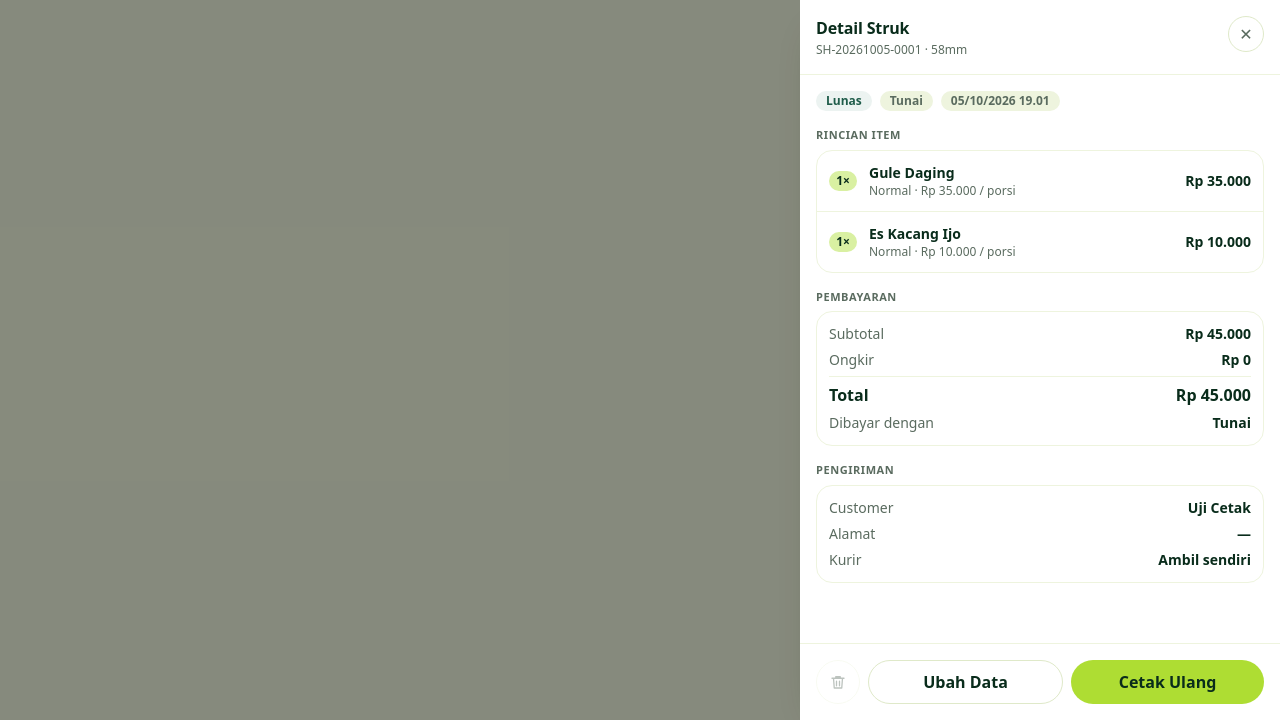
it: Ubah Data di drawer struk › memakai kolom Catatan Kirim, bukan Alamat Kirim
The image size is (1280, 720).
What coordinates should you click on to do the following:
click the button "Ubah Data"
I would click on:
 (966, 682)
Its box is [868, 660, 1063, 704].
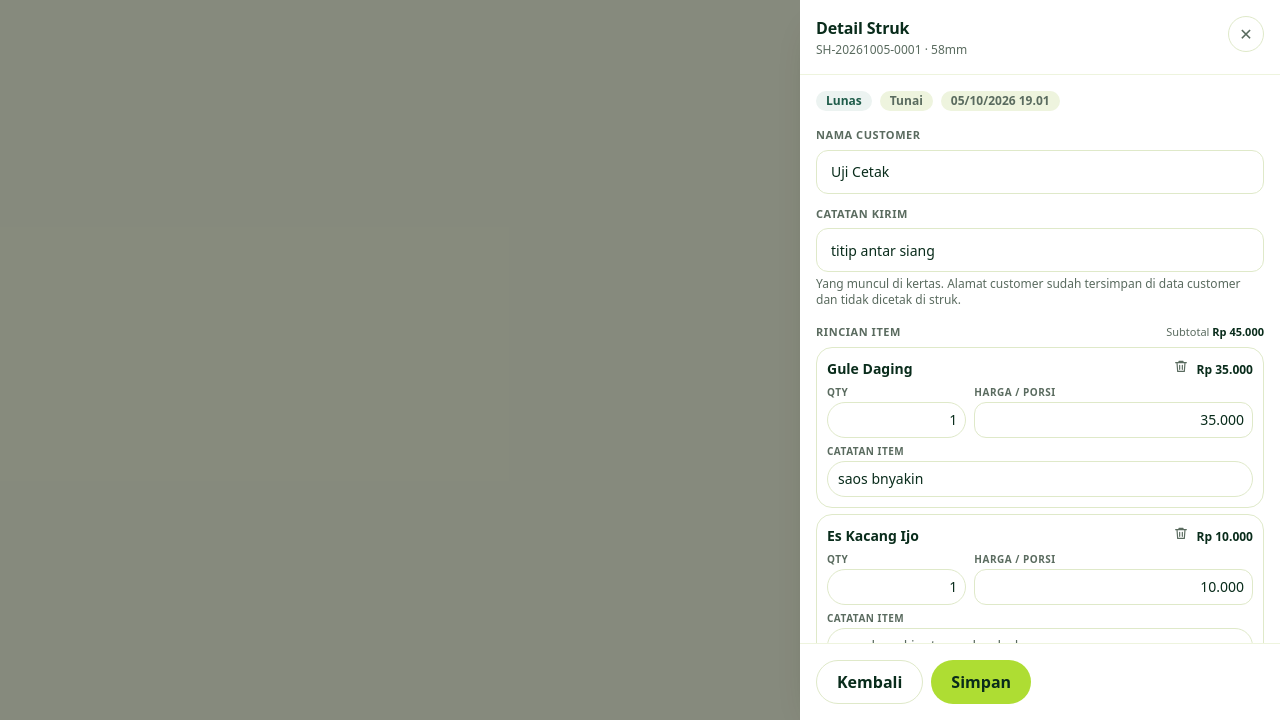
Expected: the field labelled "Catatan Kirim" is shown, [816, 228, 1264, 272]
